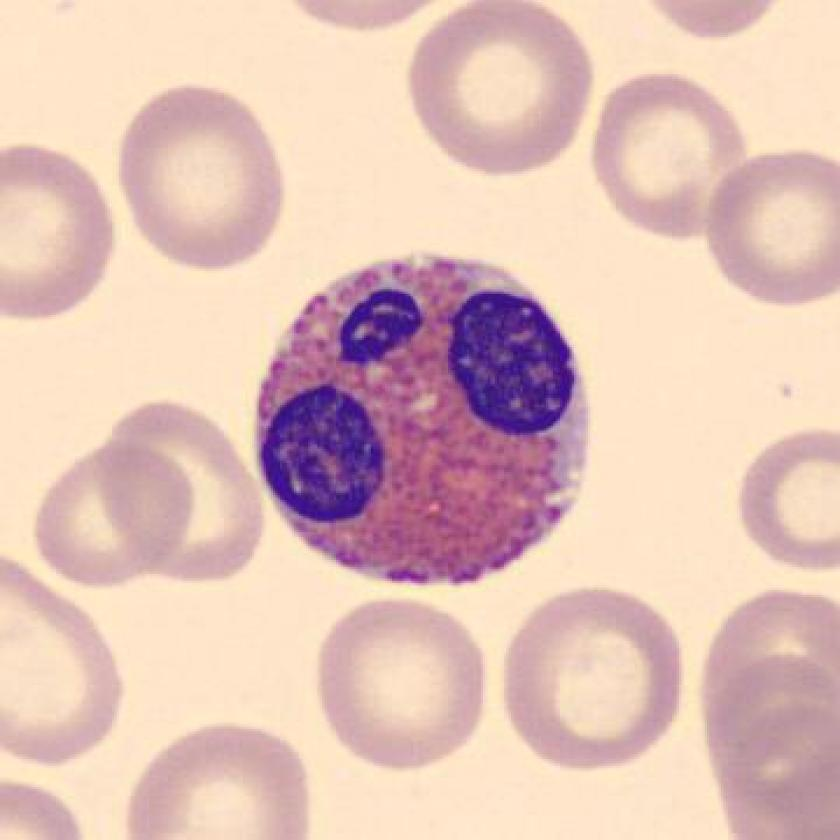eosinophil: (239, 239, 608, 605)
